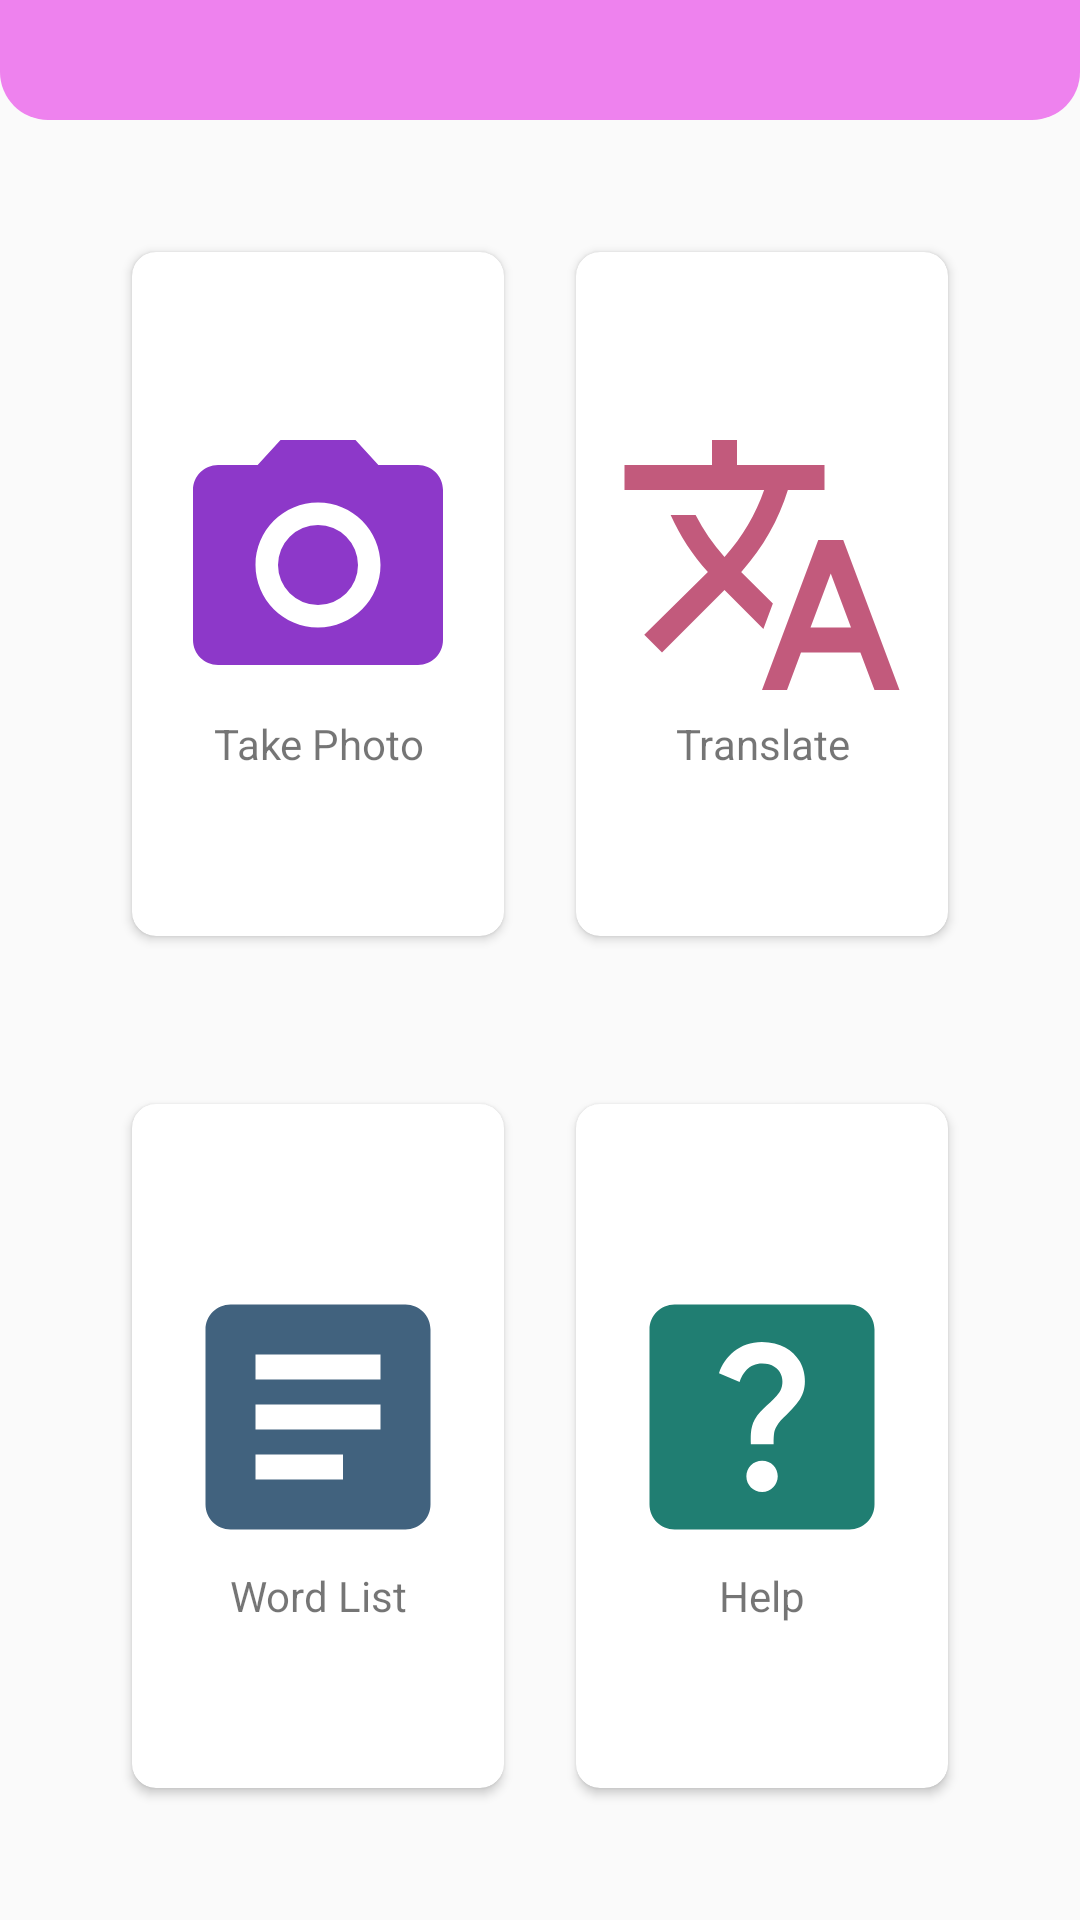

Named icons in this screenshot (1080px×1920px) and their centers, point (x, y):
article: point (318, 1417)
camera: point (318, 552)
